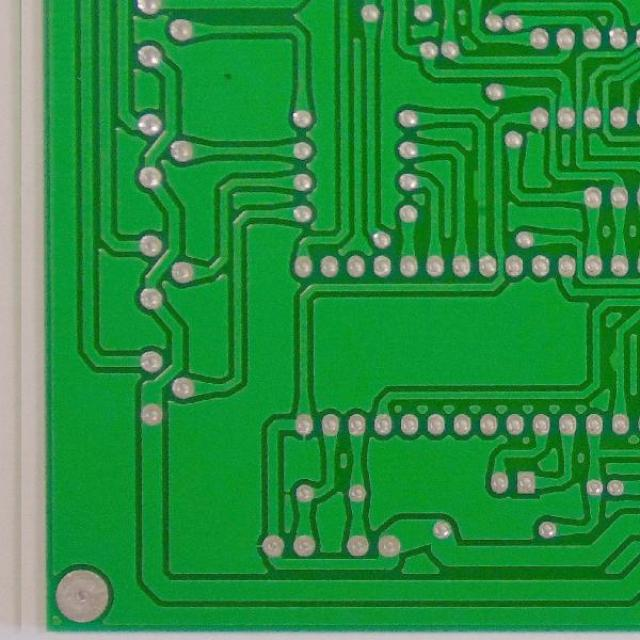Spur: (469, 164, 490, 206), (605, 344, 629, 378)
